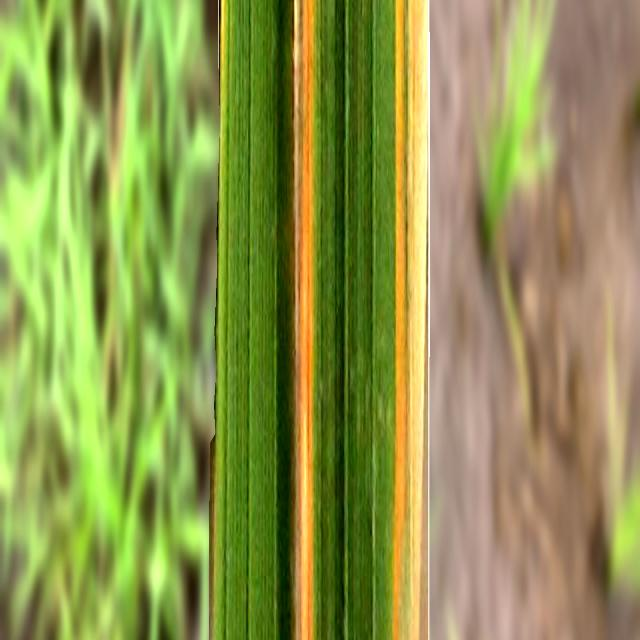BLS: (391, 0, 429, 640), (288, 0, 314, 640)
